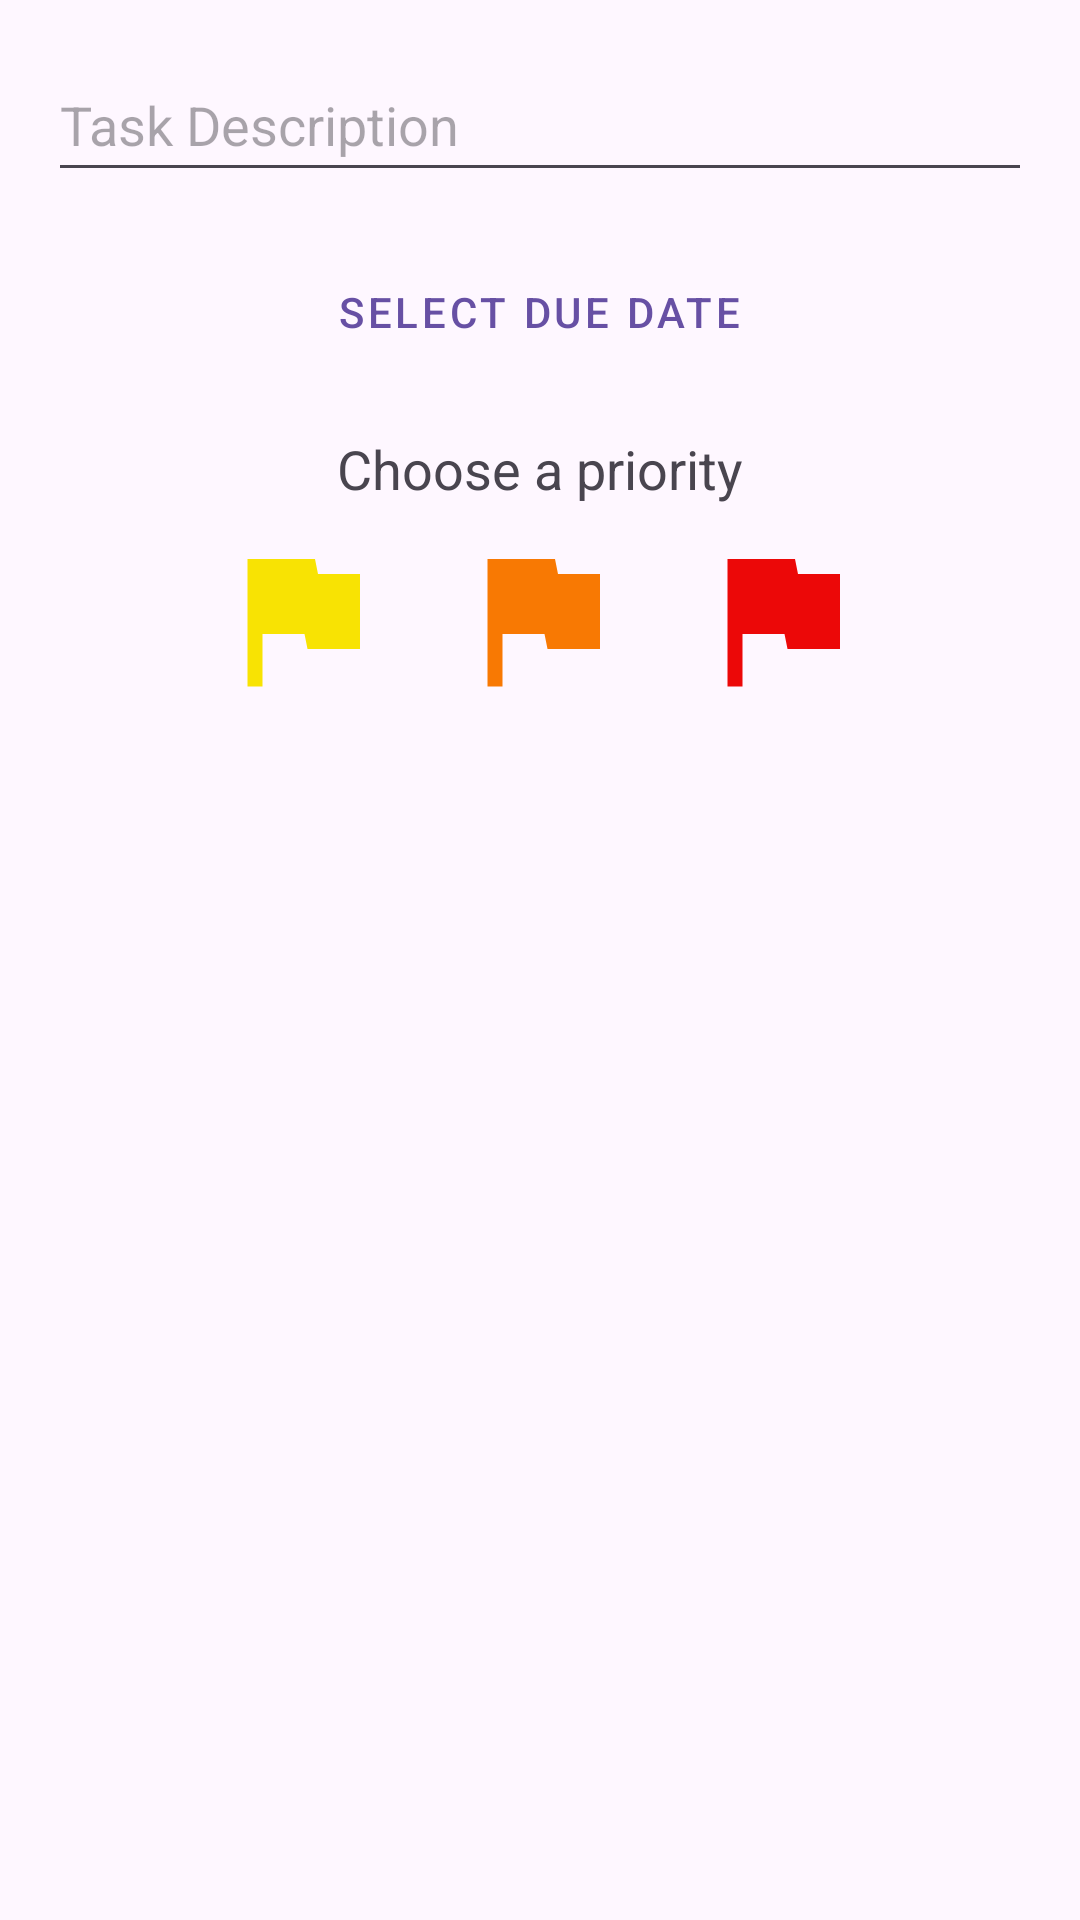

Icons on this 1080px x 1920px Android screen, each with the point to tap as [x,y]:
flag: [303,623], [543,623], [783,623]
